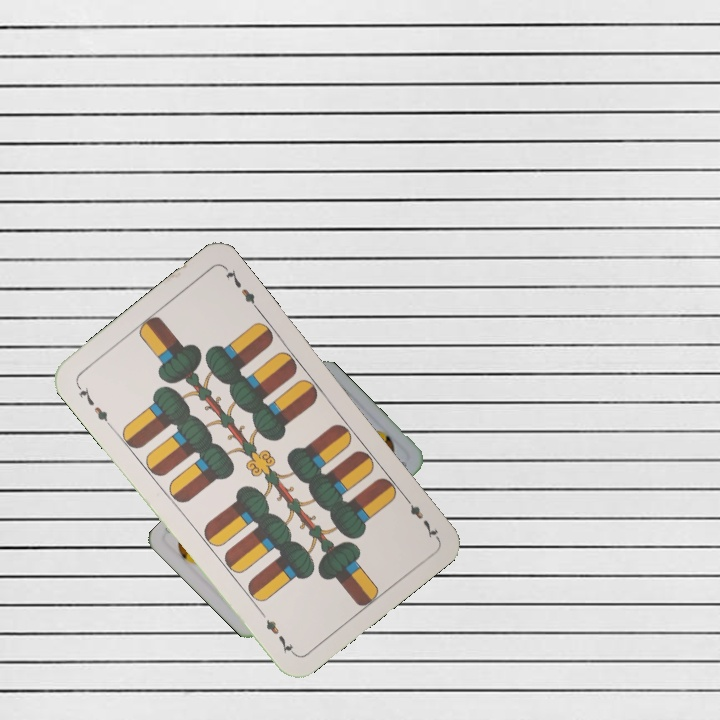E7: (72, 380, 115, 430), (399, 490, 441, 541)
